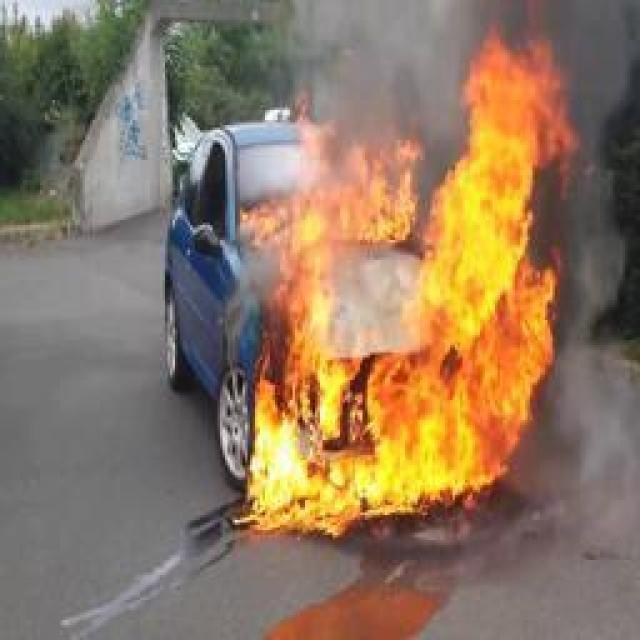Fire: (238, 2, 576, 536)
